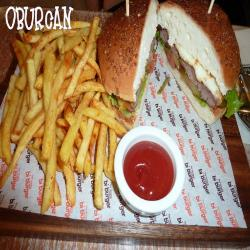burger: (101, 1, 246, 131)
fries: (10, 18, 120, 176)
ketchup: (114, 131, 179, 206)
